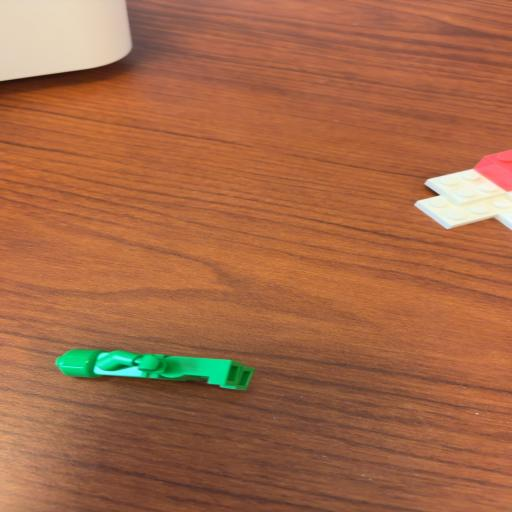UnoQ-minifig-detector: (56, 350, 254, 390)
